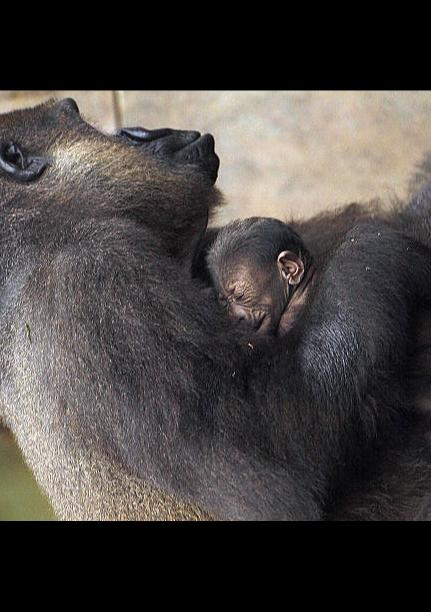gorille_Autres: (0, 90, 431, 521)
